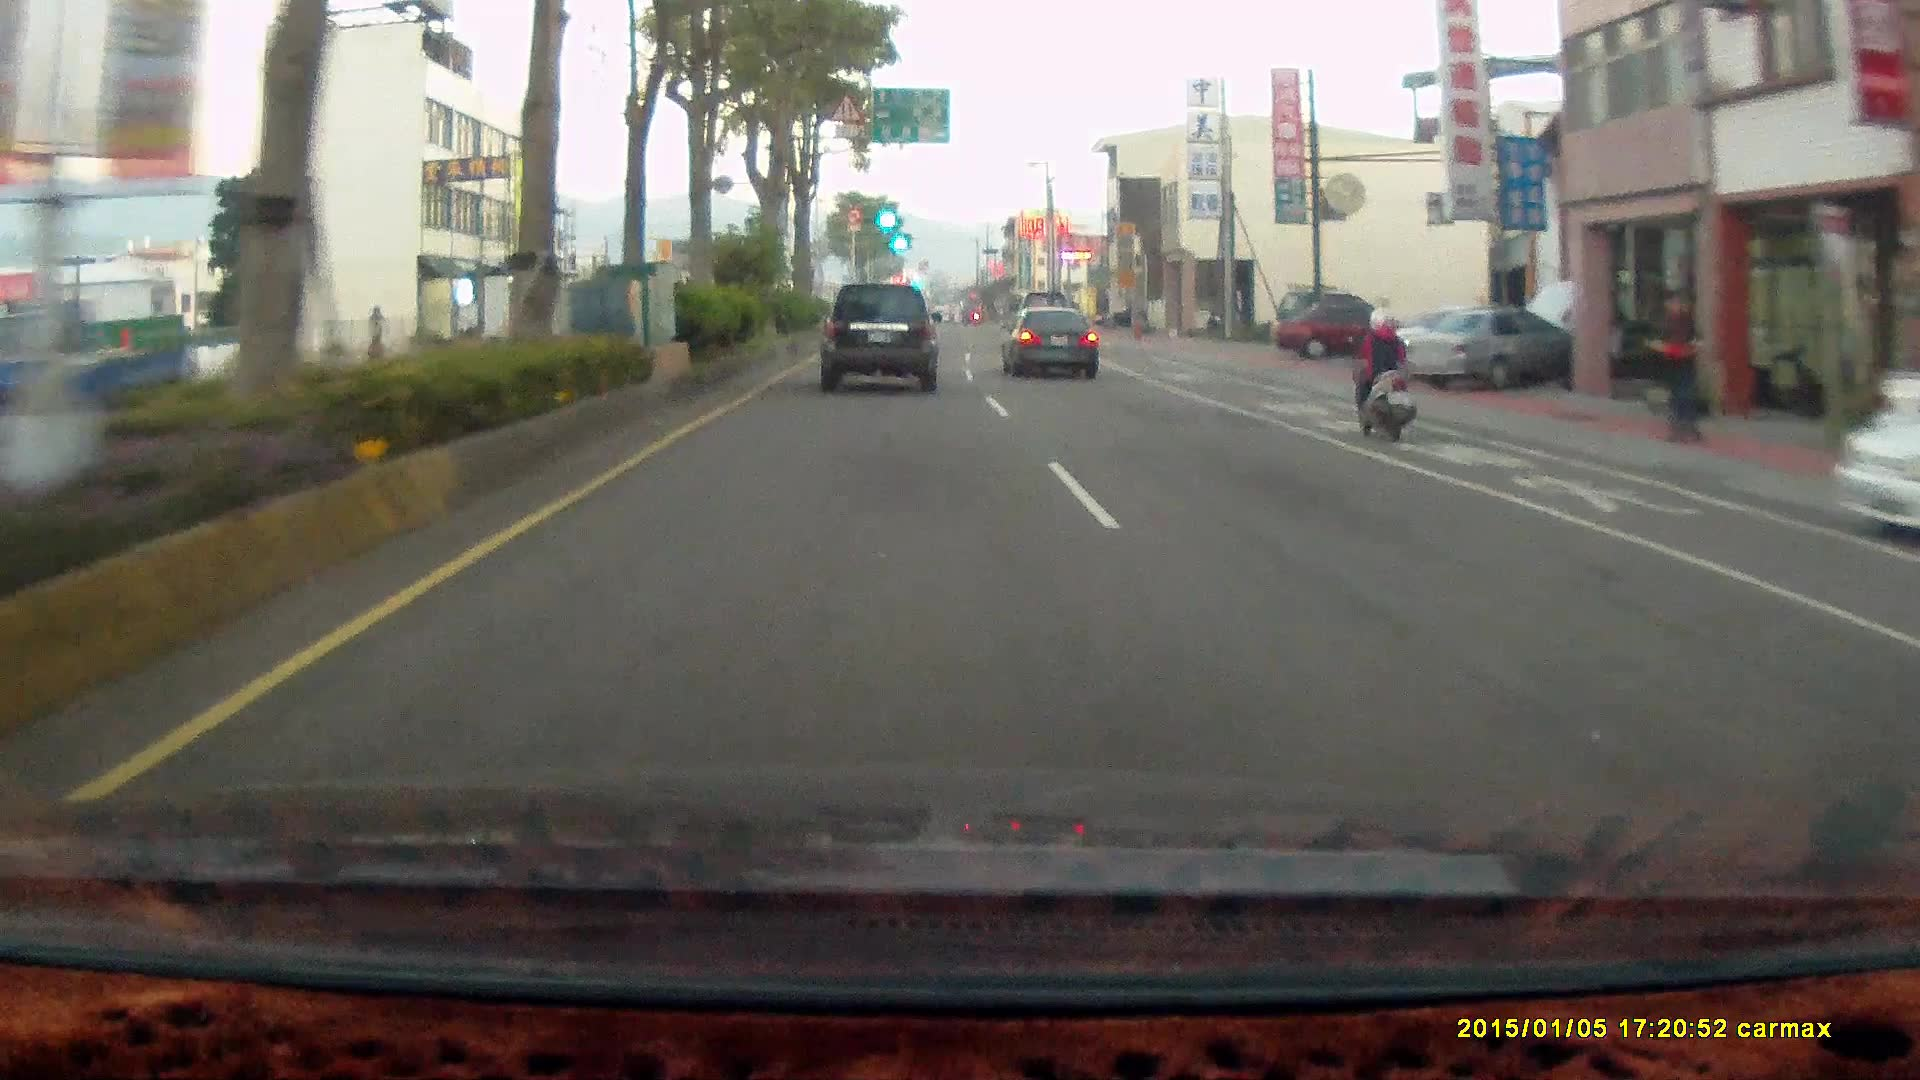pedestrian: (1647, 283, 1720, 449)
rider: (1337, 294, 1428, 451), (1347, 303, 1417, 438)
vehicle: (1, 306, 210, 450), (1833, 331, 1920, 543), (1408, 306, 1579, 395), (819, 283, 944, 394), (819, 282, 943, 393), (1831, 397, 1919, 542), (1275, 297, 1392, 362), (1005, 307, 1106, 382), (1274, 297, 1397, 359), (1000, 305, 1099, 377)
